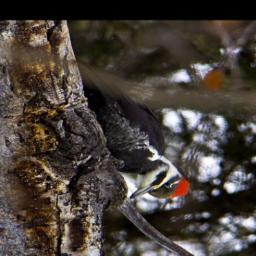Woodpecker: (84, 78, 194, 201)
